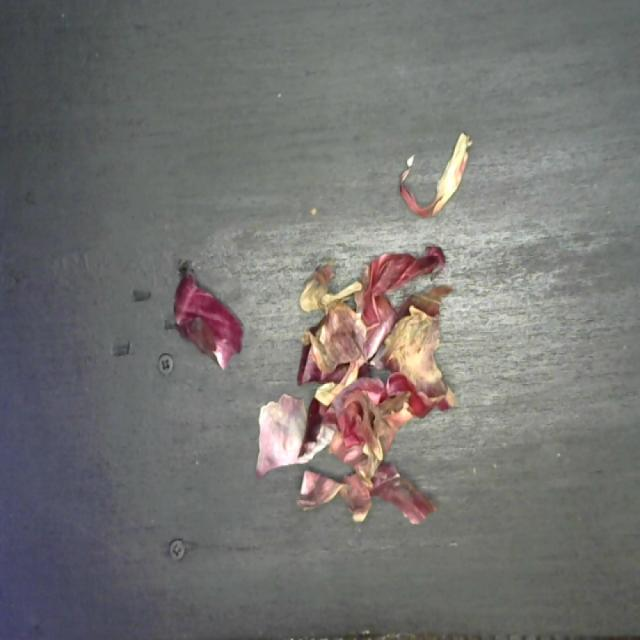biodegradable: (253, 126, 473, 530)
